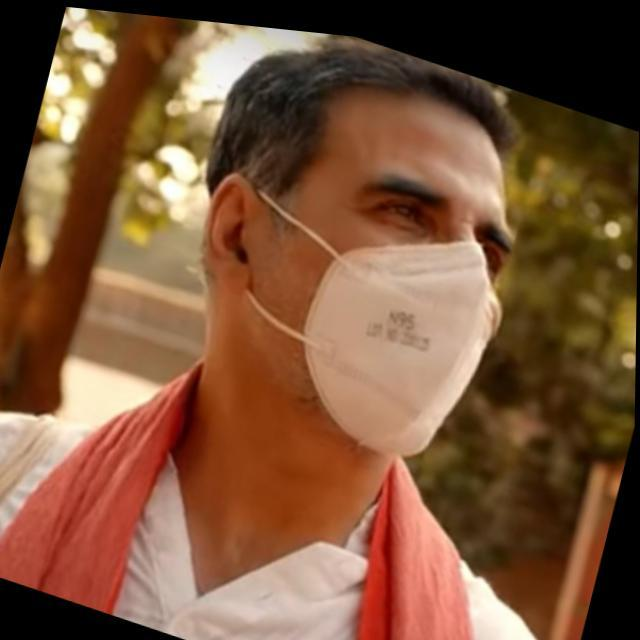Nonhelmet: (193, 37, 526, 462)
